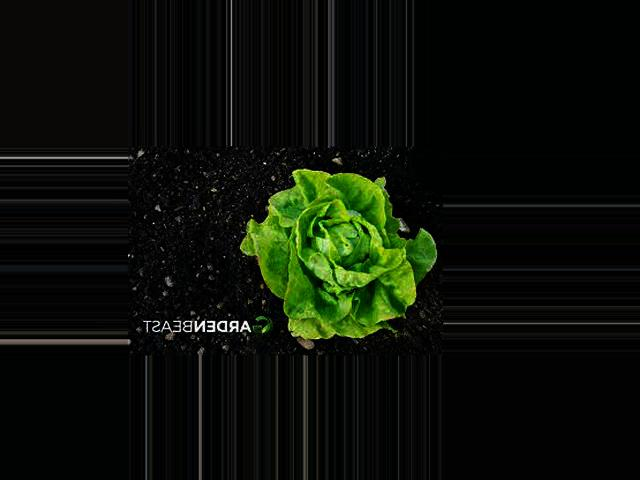lettuce: (264, 178, 405, 336)
